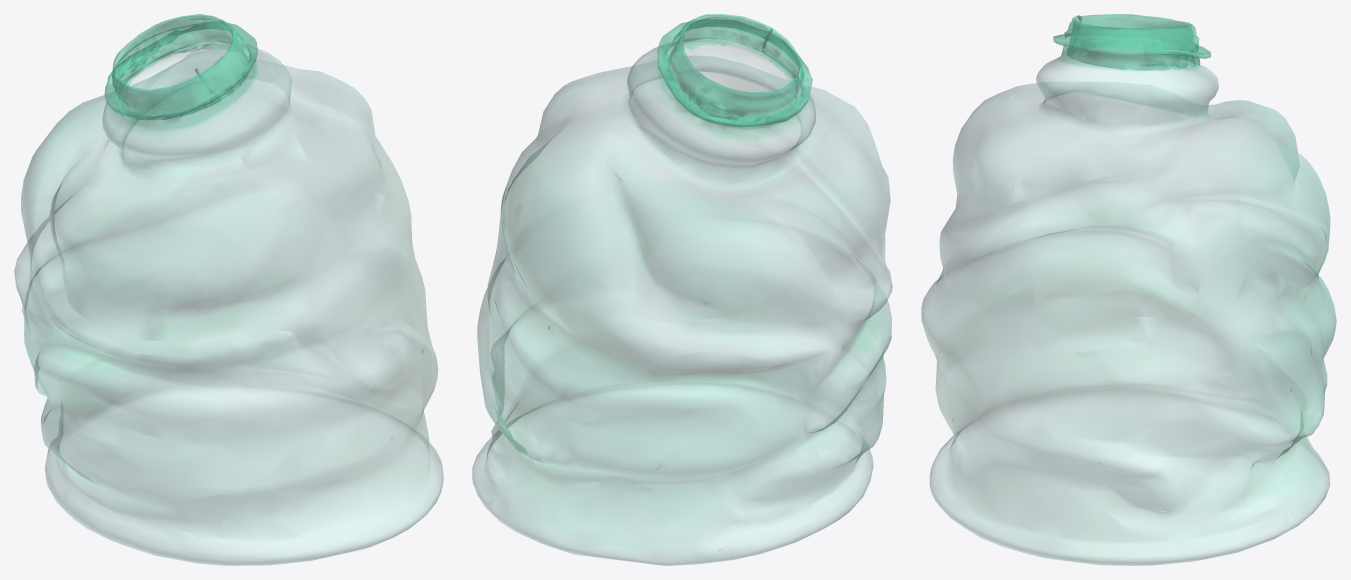
File: 07_10_nj_et_gre_l_trs-opt-v44.glb
The picture shows the model from 3 angles, left to right: view 1: azimuth 30°, elevation 25°; view 2: azimuth 150°, elevation 25°; view 3: azimuth 270°, elevation 25°; orthographic projection. The views are drawn at different scales.
Parts seen in each view (by area): view 1: yeşil.002; view 2: yeşil.002; view 3: yeşil.002.
Part boxes in pixels (bbox=[...]): yeşil.002: bbox=[14, 14, 443, 565]; yeşil.002: bbox=[472, 14, 892, 565]; yeşil.002: bbox=[921, 14, 1336, 565].
Bounding box in the file's own units: 0.2441 × 0.3001 × 0.2442.
1 material, 1 textured.
